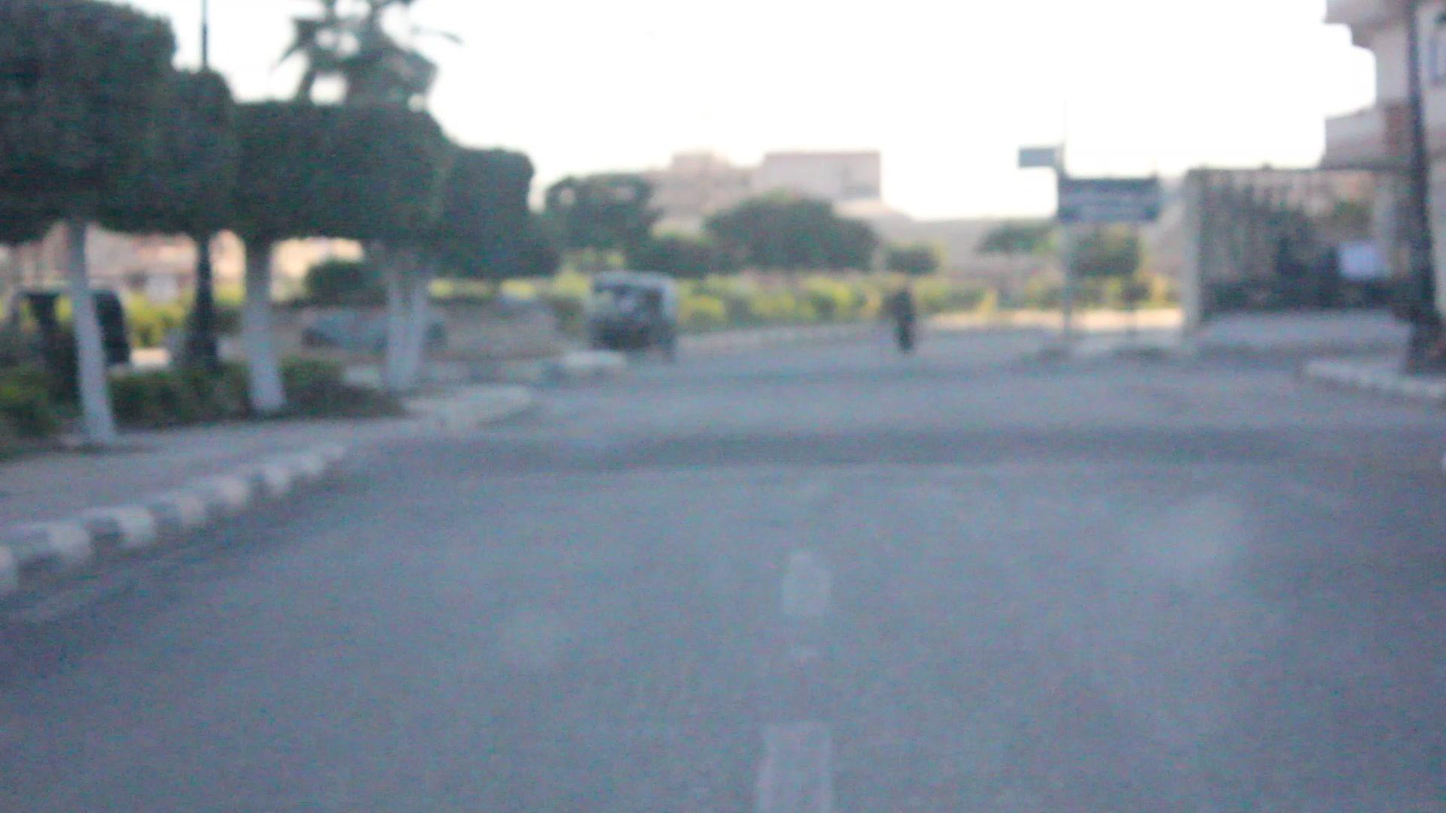Bump: (429, 420, 1446, 476)
